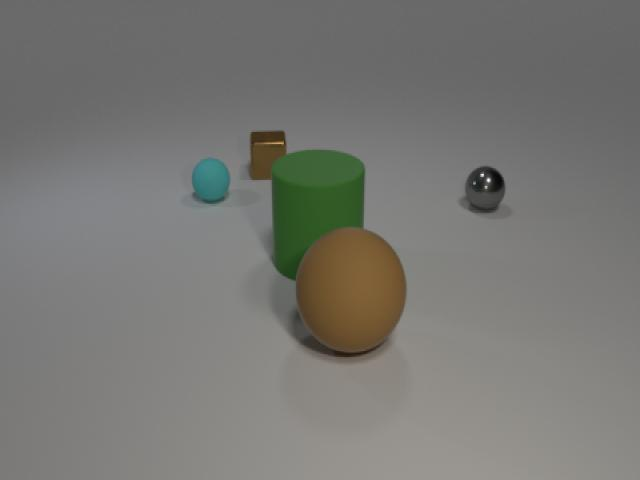cylinder: (267, 146, 372, 284)
round ball: (288, 221, 413, 362), (462, 161, 508, 218), (188, 154, 234, 206)
